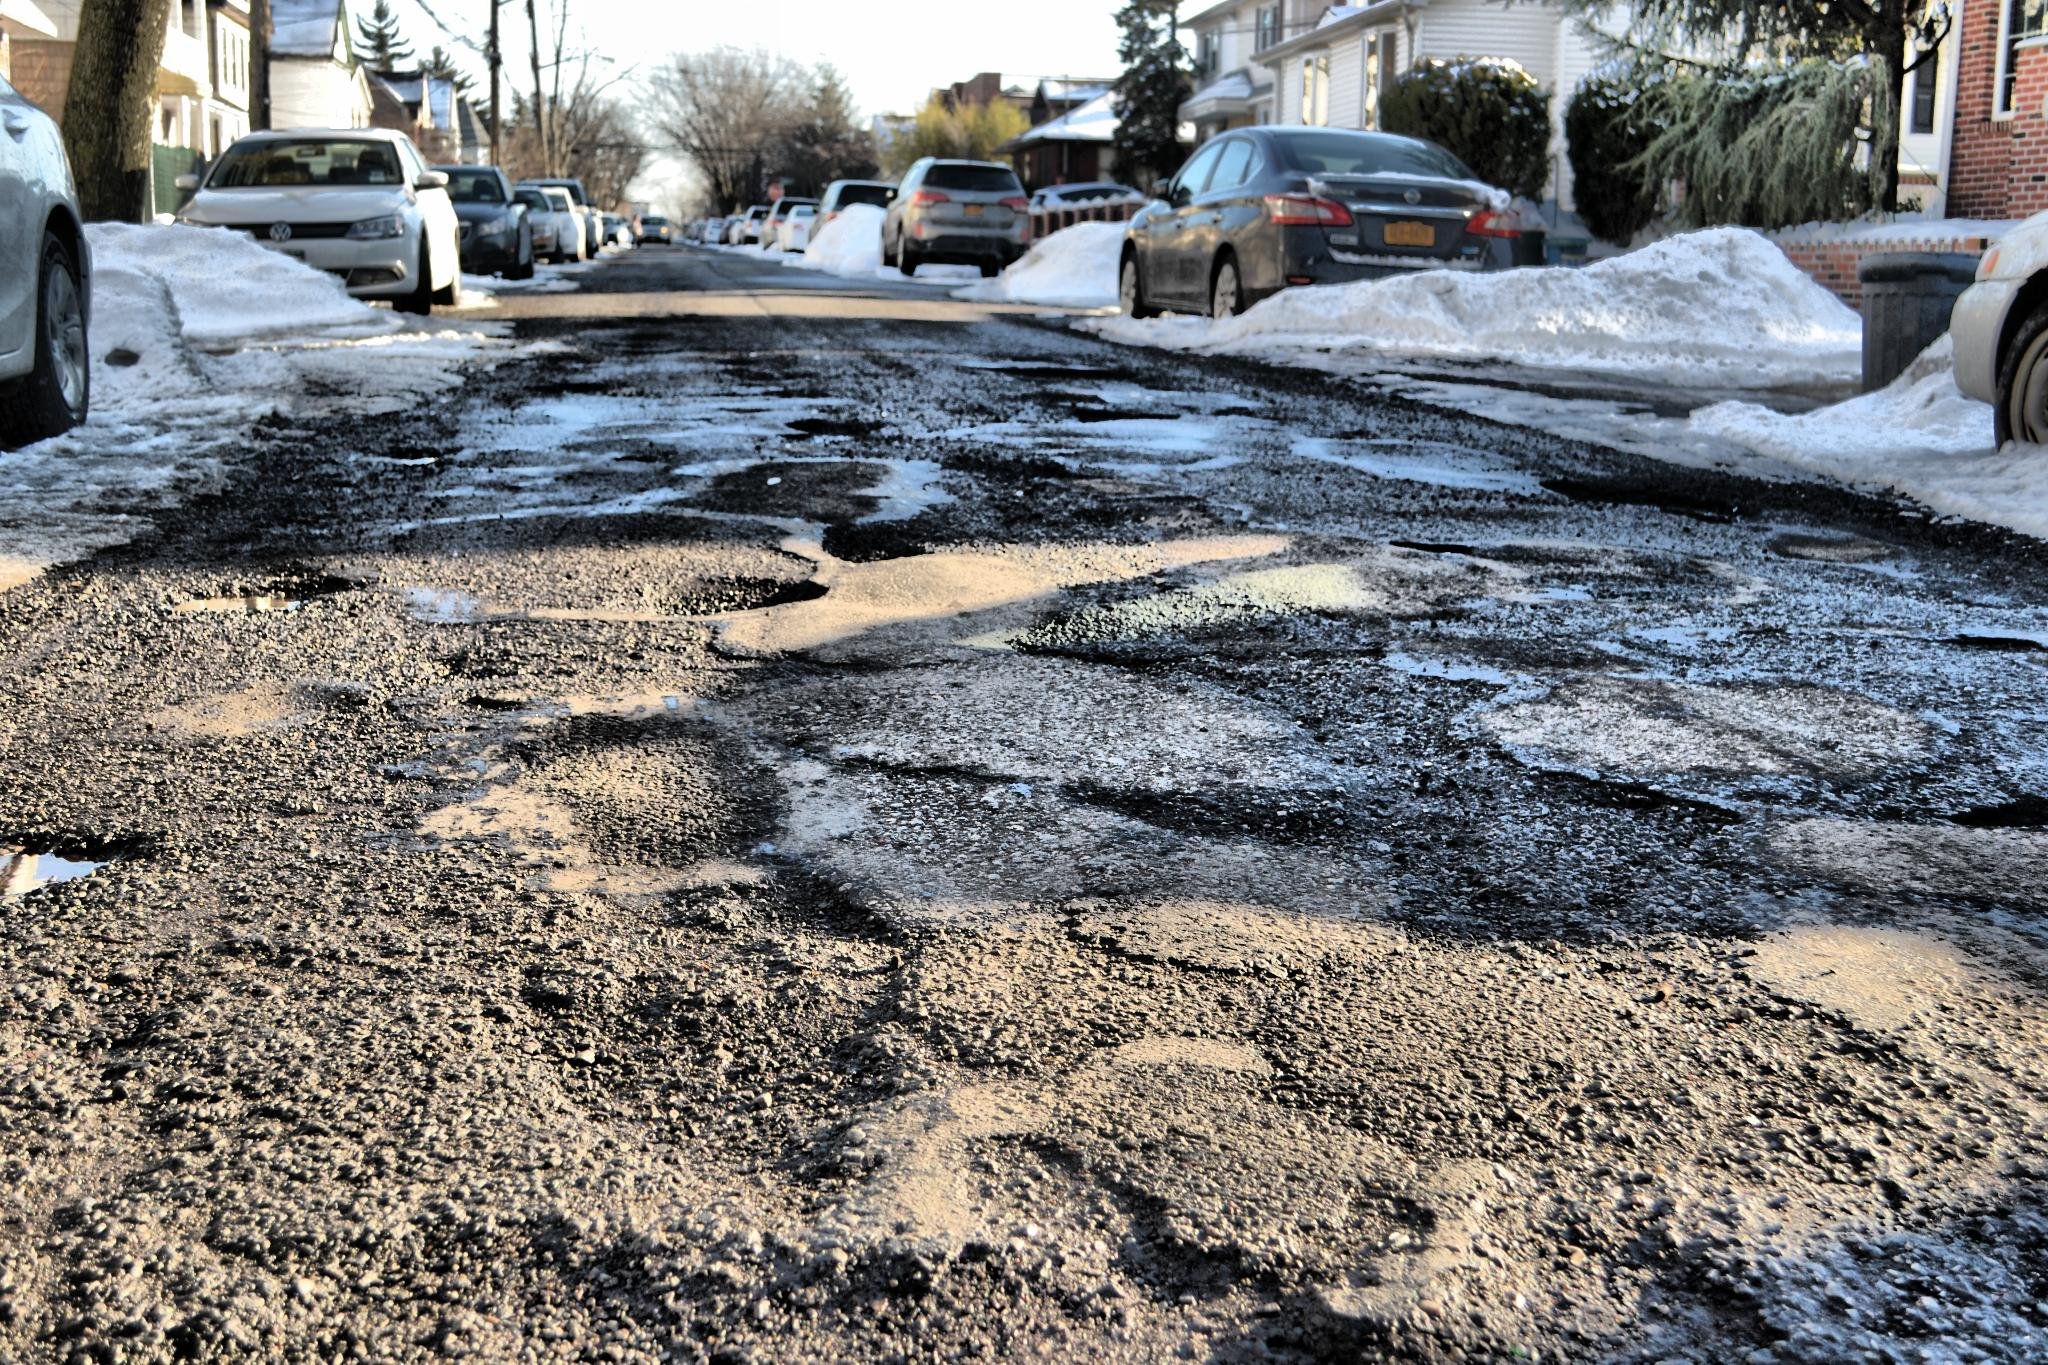pothole: (483, 722, 935, 1216), (247, 1207, 1431, 1365), (174, 553, 347, 631), (1538, 462, 1737, 524), (0, 818, 154, 897), (668, 556, 828, 629), (994, 352, 1142, 388)
